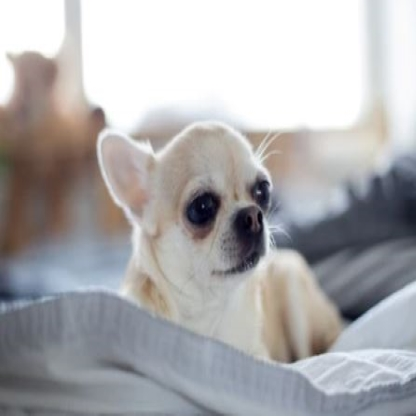chihuahua: (93, 118, 342, 354)
